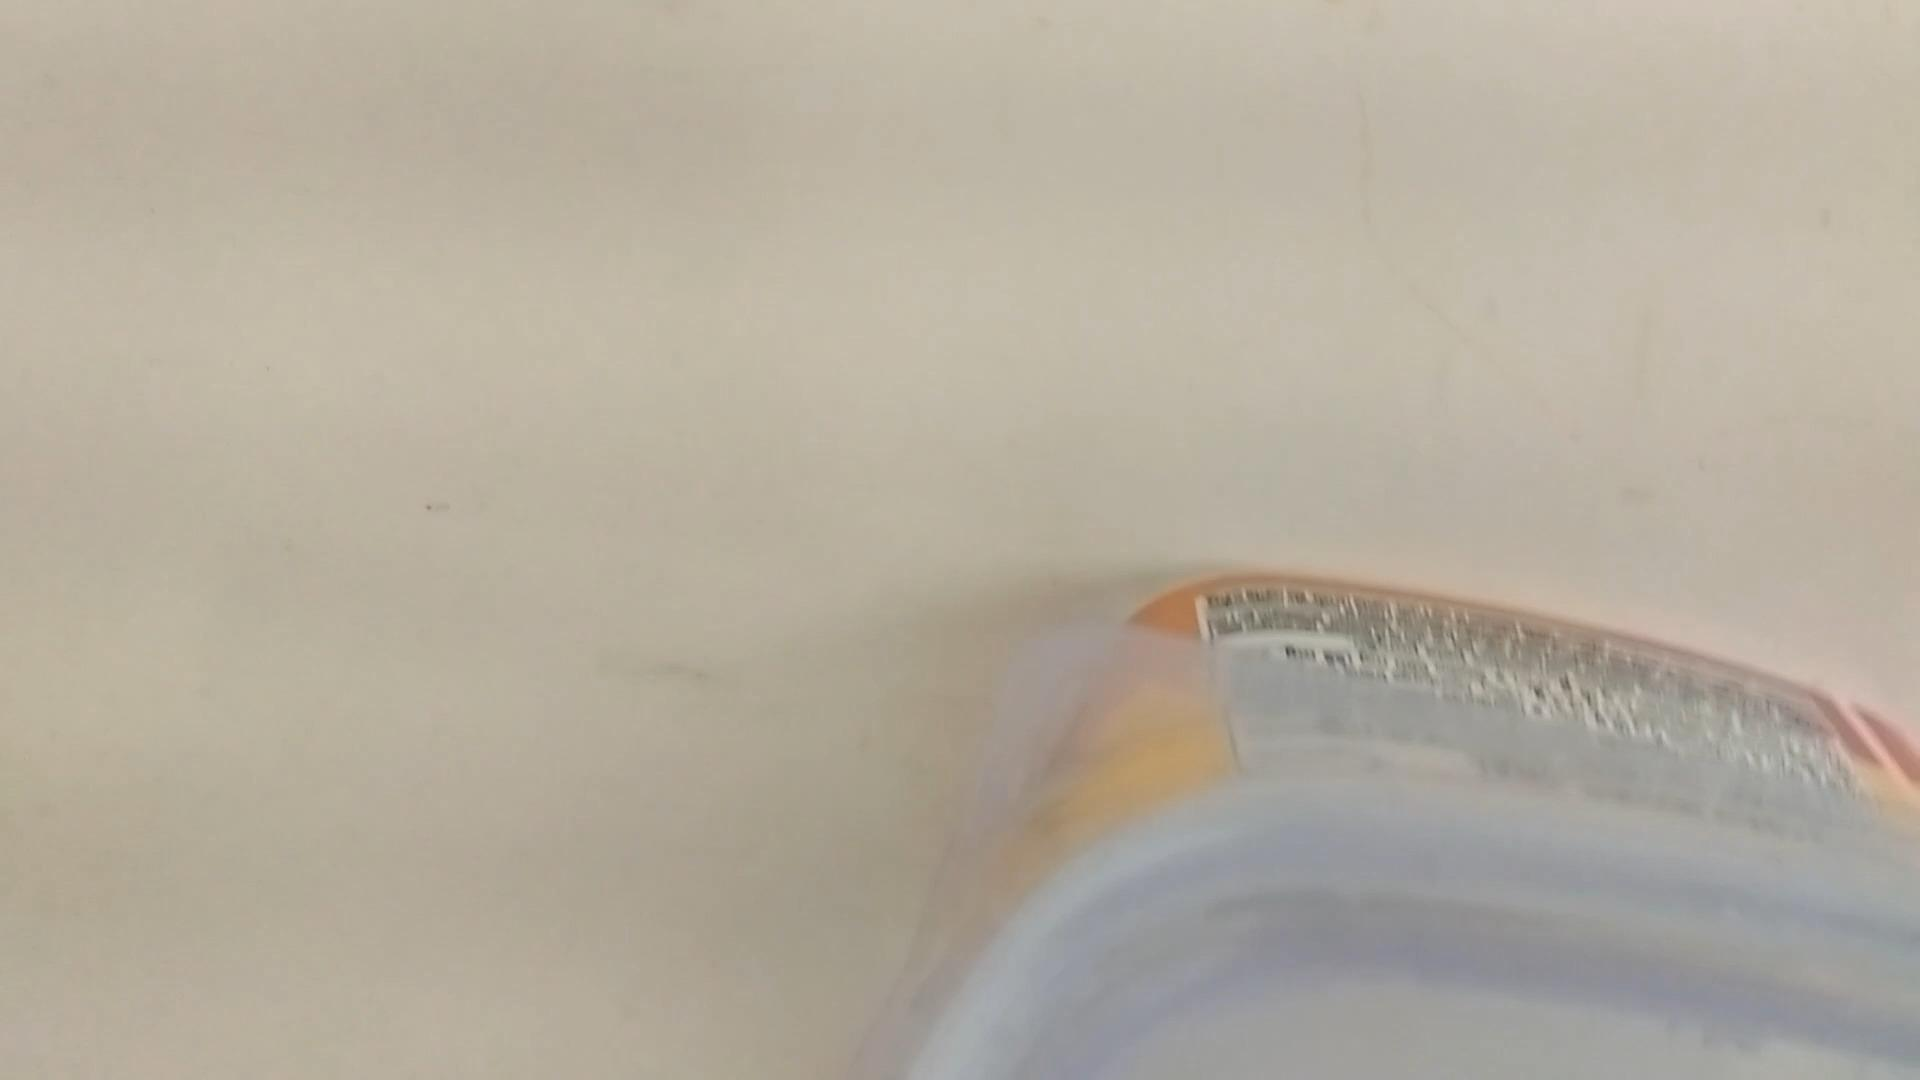butter: (839, 578, 1920, 1067)
